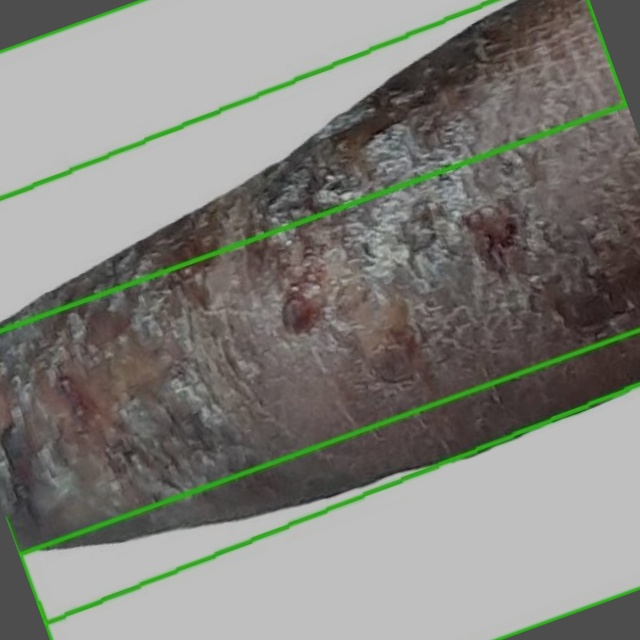Eczema: (0, 0, 639, 623), (0, 0, 626, 330), (19, 330, 639, 639)
